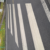zebra: (6, 3, 44, 50)
